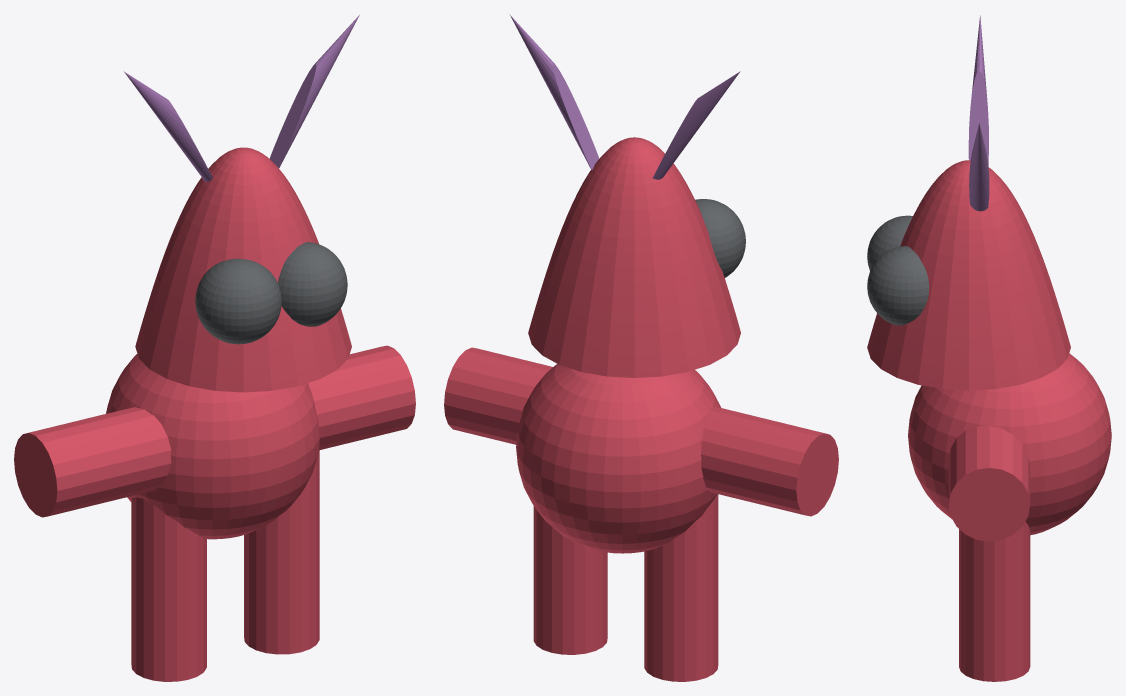
The picture shows the model from 3 angles, left to right: view 1: azimuth 30°, elevation 25°; view 2: azimuth 150°, elevation 25°; view 3: azimuth 270°, elevation 25°; orthographic projection. The views are drawn at different scales.
Parts seen in each view (by area): view 1: Mesh_Mesh_head_geo.001_lambert2SG.001; view 2: Mesh_Mesh_head_geo.001_lambert2SG.001; view 3: Mesh_Mesh_head_geo.001_lambert2SG.001.
Boxes of the visible parts, bbox=[...] form: Mesh_Mesh_head_geo.001_lambert2SG.001: bbox=[14, 15, 415, 681]; Mesh_Mesh_head_geo.001_lambert2SG.001: bbox=[444, 14, 838, 681]; Mesh_Mesh_head_geo.001_lambert2SG.001: bbox=[867, 15, 1111, 681].
Bounding box in the file's own units: 38.2 × 62.43 × 24.
